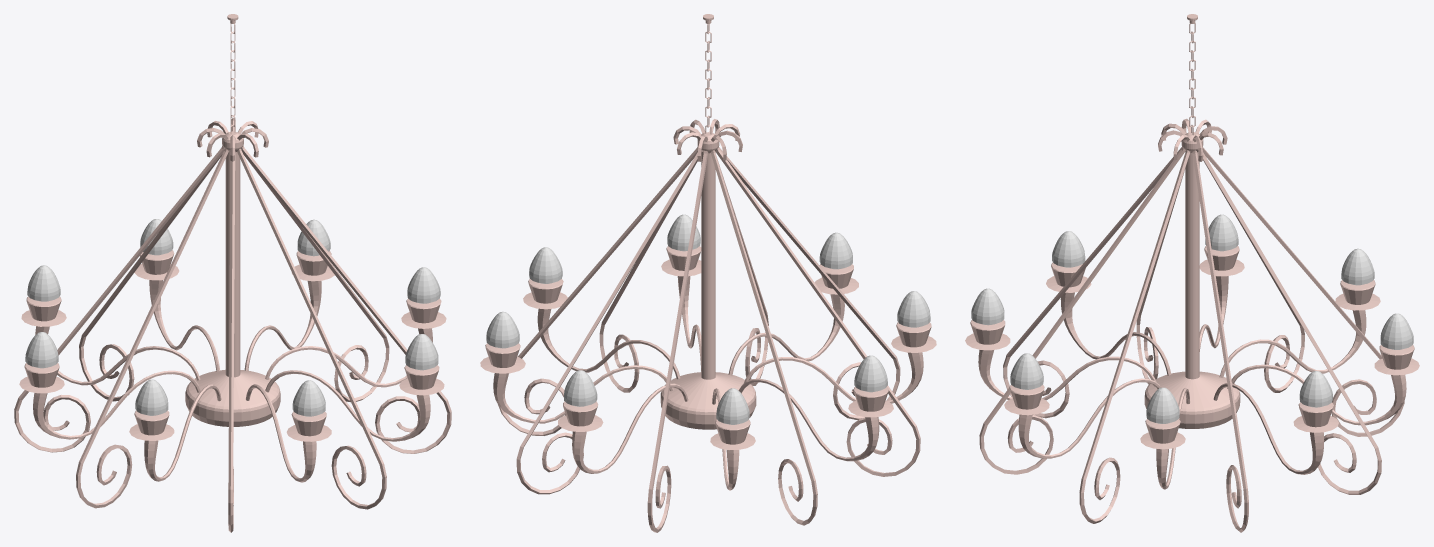
File: lamp.glb
3 renders of one model, left to right at view 1: azimuth 30°, elevation 25°; view 2: azimuth 150°, elevation 25°; view 3: azimuth 270°, elevation 25°, orthographic.
Visible parts, largest first — view 1: Lamps, Bars, Stem, Chain; view 2: Lamps, Bars, Stem, Chain; view 3: Lamps, Bars, Stem, Chain.
Part boxes in pixels (box(x1,y1,x2,y2)): Lamps: box(19, 219, 446, 482); Bars: box(14, 117, 451, 532); Stem: box(185, 131, 280, 426); Chain: box(227, 14, 238, 133); Lamps: box(480, 214, 936, 490); Bars: box(498, 119, 920, 532); Stem: box(660, 132, 756, 429); Chain: box(703, 14, 713, 134); Lamps: box(965, 214, 1419, 489); Bars: box(979, 118, 1404, 532); Stem: box(1144, 132, 1240, 428); Chain: box(1187, 14, 1197, 134).
Size of the model in its own units: 0.8404 by 0.8958 by 0.8404.
